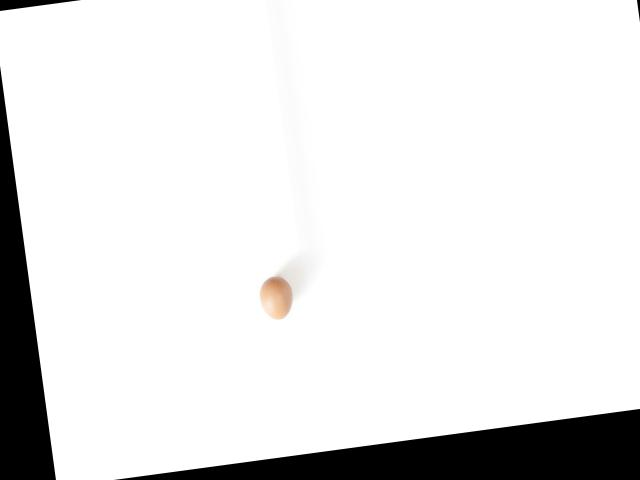egg: (257, 274, 295, 321)
